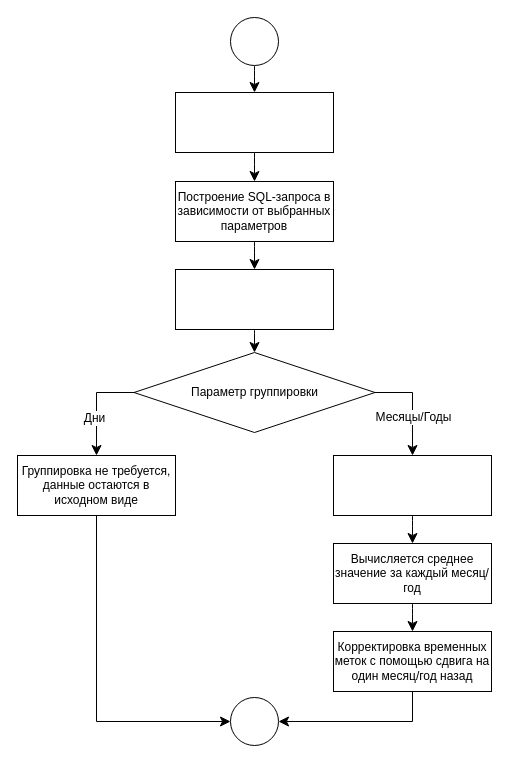
Some shapes in this 509 by 763 pixel diagram are drawn without their labels. The centre of each missing label's shape, as x and y in pixels:
"Данные группируются по последнему дню месяца/года" goes at pixel 412 485.
"Получение данных в виде DataFrame" goes at pixel 254 299.
"Получение запроса от клиентской части с параметрами для визуализации" goes at pixel 254 122.
